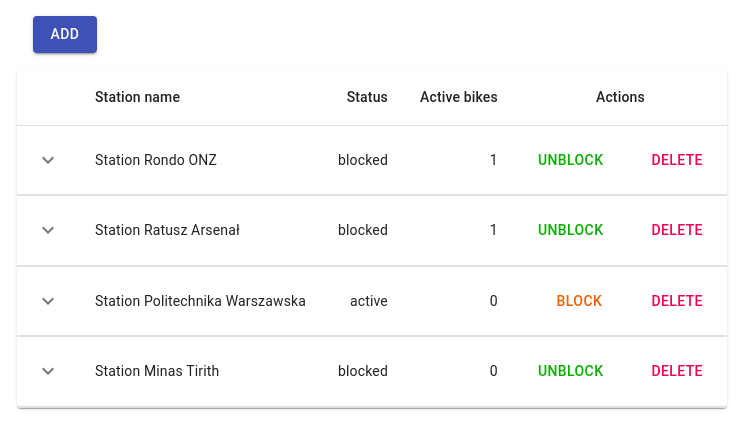
Test case: Clicking unblock changes button text
Click the button "Unblock" in the row of "Minas Tirith". click: (571, 371)
box: [530,353,611,390]
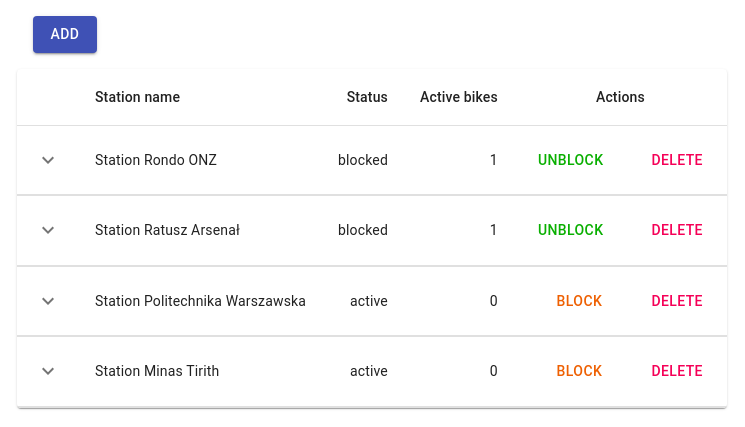
Expected: the button "Block" in the row of "Minas Tirith" is shown, [547,353,611,390]
